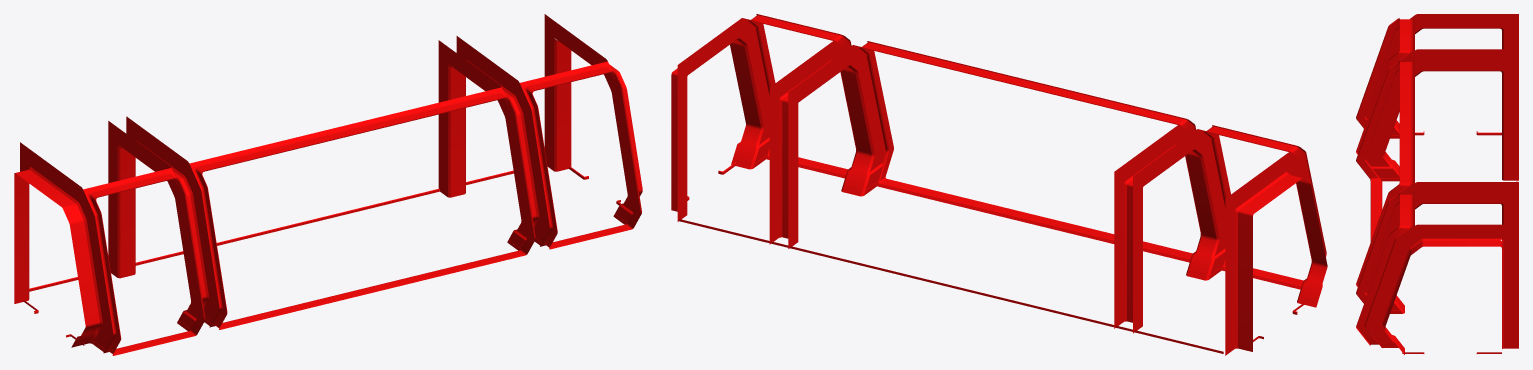
The picture shows the model from 3 angles, left to right: view 1: azimuth 30°, elevation 25°; view 2: azimuth 150°, elevation 25°; view 3: azimuth 270°, elevation 25°; orthographic projection. The views are drawn at different scales.
Parts seen in each view (by area): view 1: 1; view 2: 1; view 3: 1.
Part boxes in pixels (bbox=[...]): 1: bbox=[14, 14, 642, 355]; 1: bbox=[671, 14, 1327, 355]; 1: bbox=[1356, 14, 1518, 354].
Bounding box in the file's own units: 3120 × 800 × 953.
